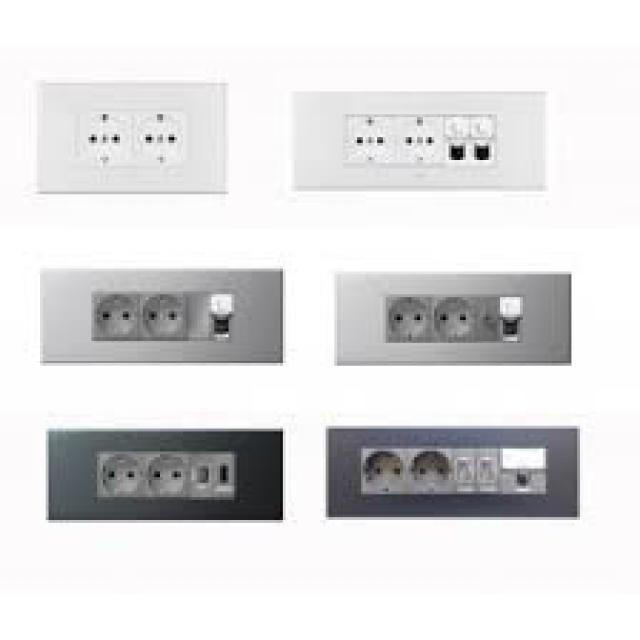typeb: (307, 414, 588, 552), (13, 254, 304, 377), (322, 258, 597, 376), (35, 420, 295, 538), (29, 72, 246, 210)
